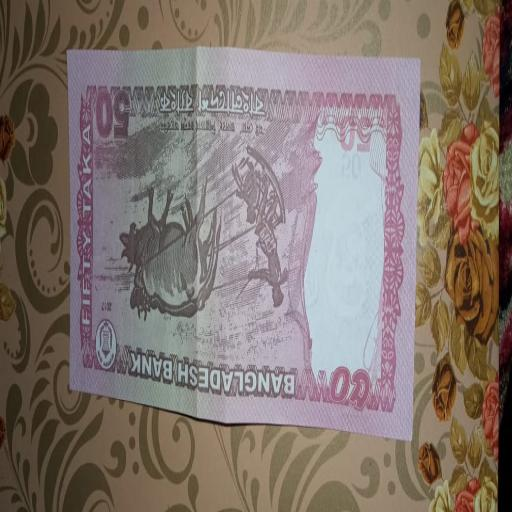50taka: (67, 52, 423, 436)
